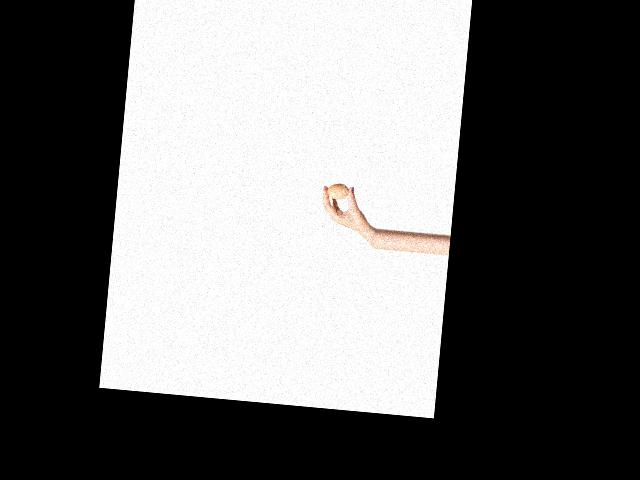egg: (326, 183, 349, 200)
